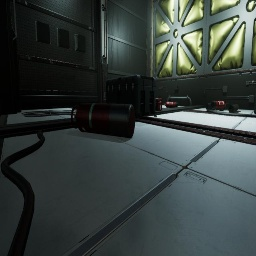FireExtinguisher ]: (211, 100, 227, 111), (163, 102, 178, 108), (165, 105, 165, 106)
FirstAidBox ,: (156, 97, 162, 111)
NitrogenTank ,: (71, 102, 135, 138)
